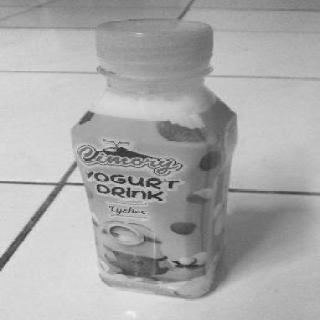plastic_bottles: (70, 19, 243, 302)
